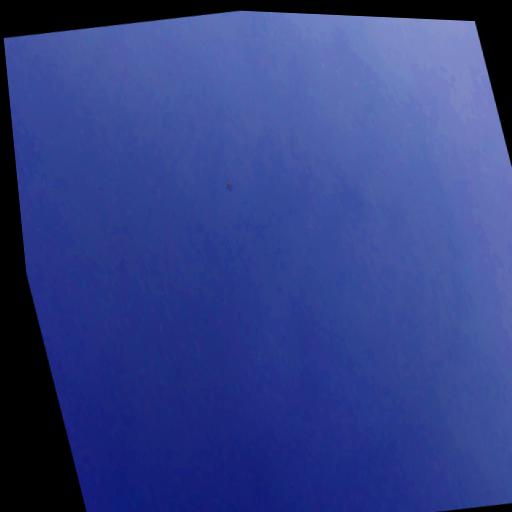drones: (223, 176, 234, 194)
